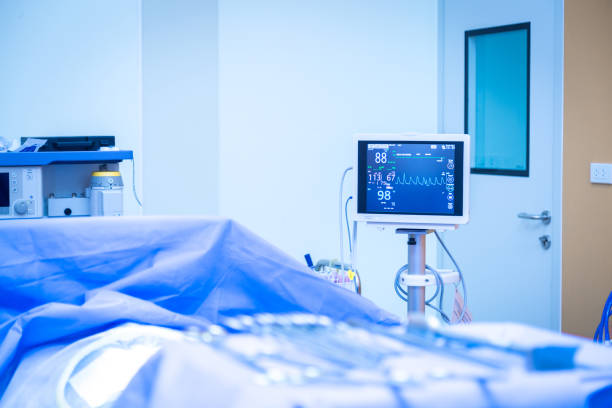bedside_monitor: (351, 132, 469, 226)
door_handle: (512, 210, 550, 228)
